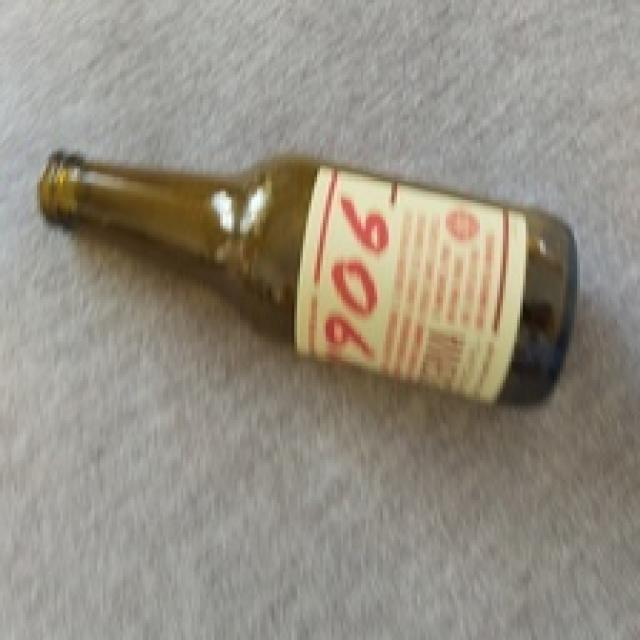Glass: (37, 150, 580, 410)
